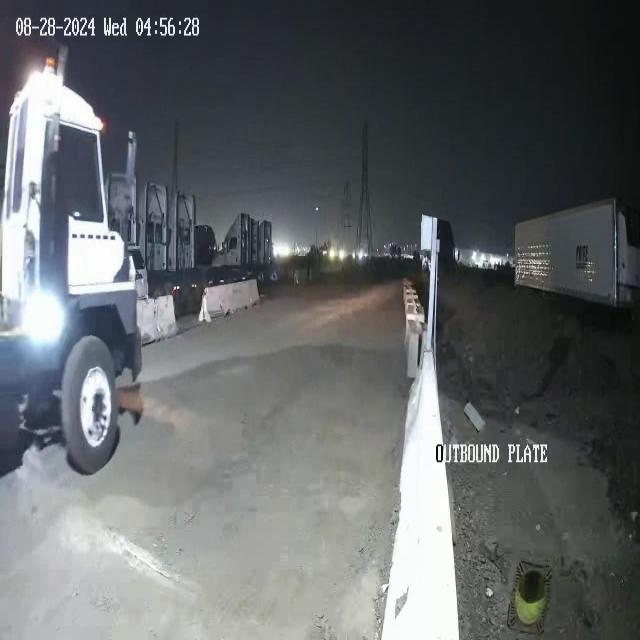TRUCK_IN: (1, 43, 145, 476)
